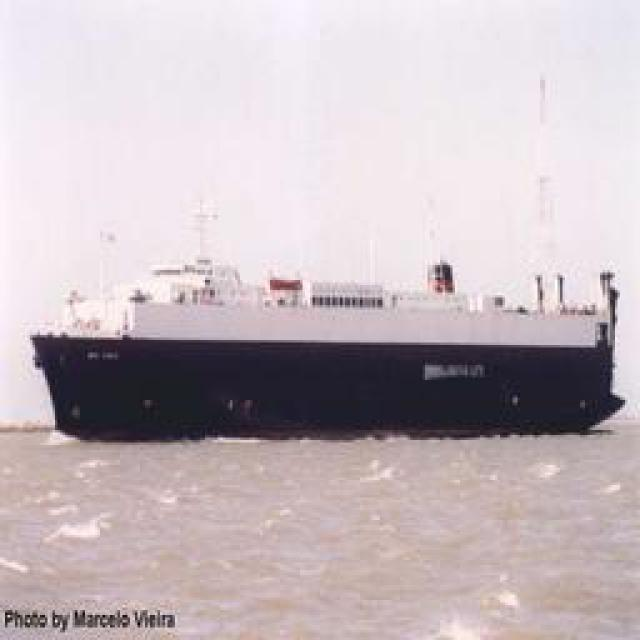Ship: (21, 253, 624, 431)
